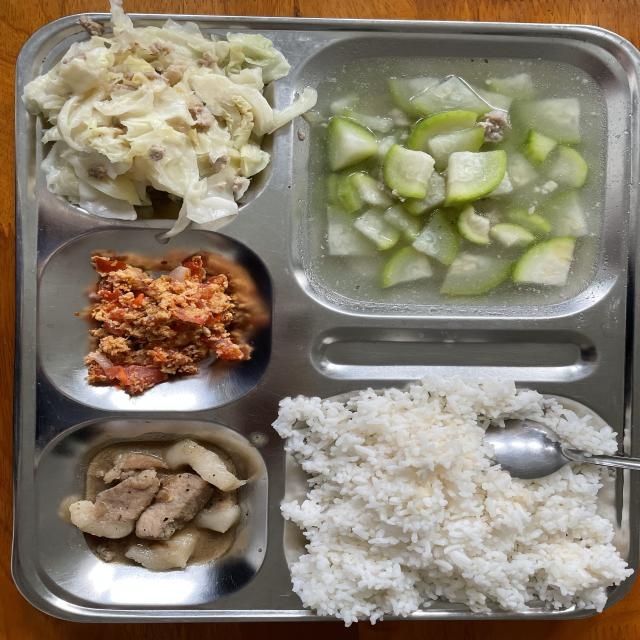thit_kho: (95, 451, 227, 559)
